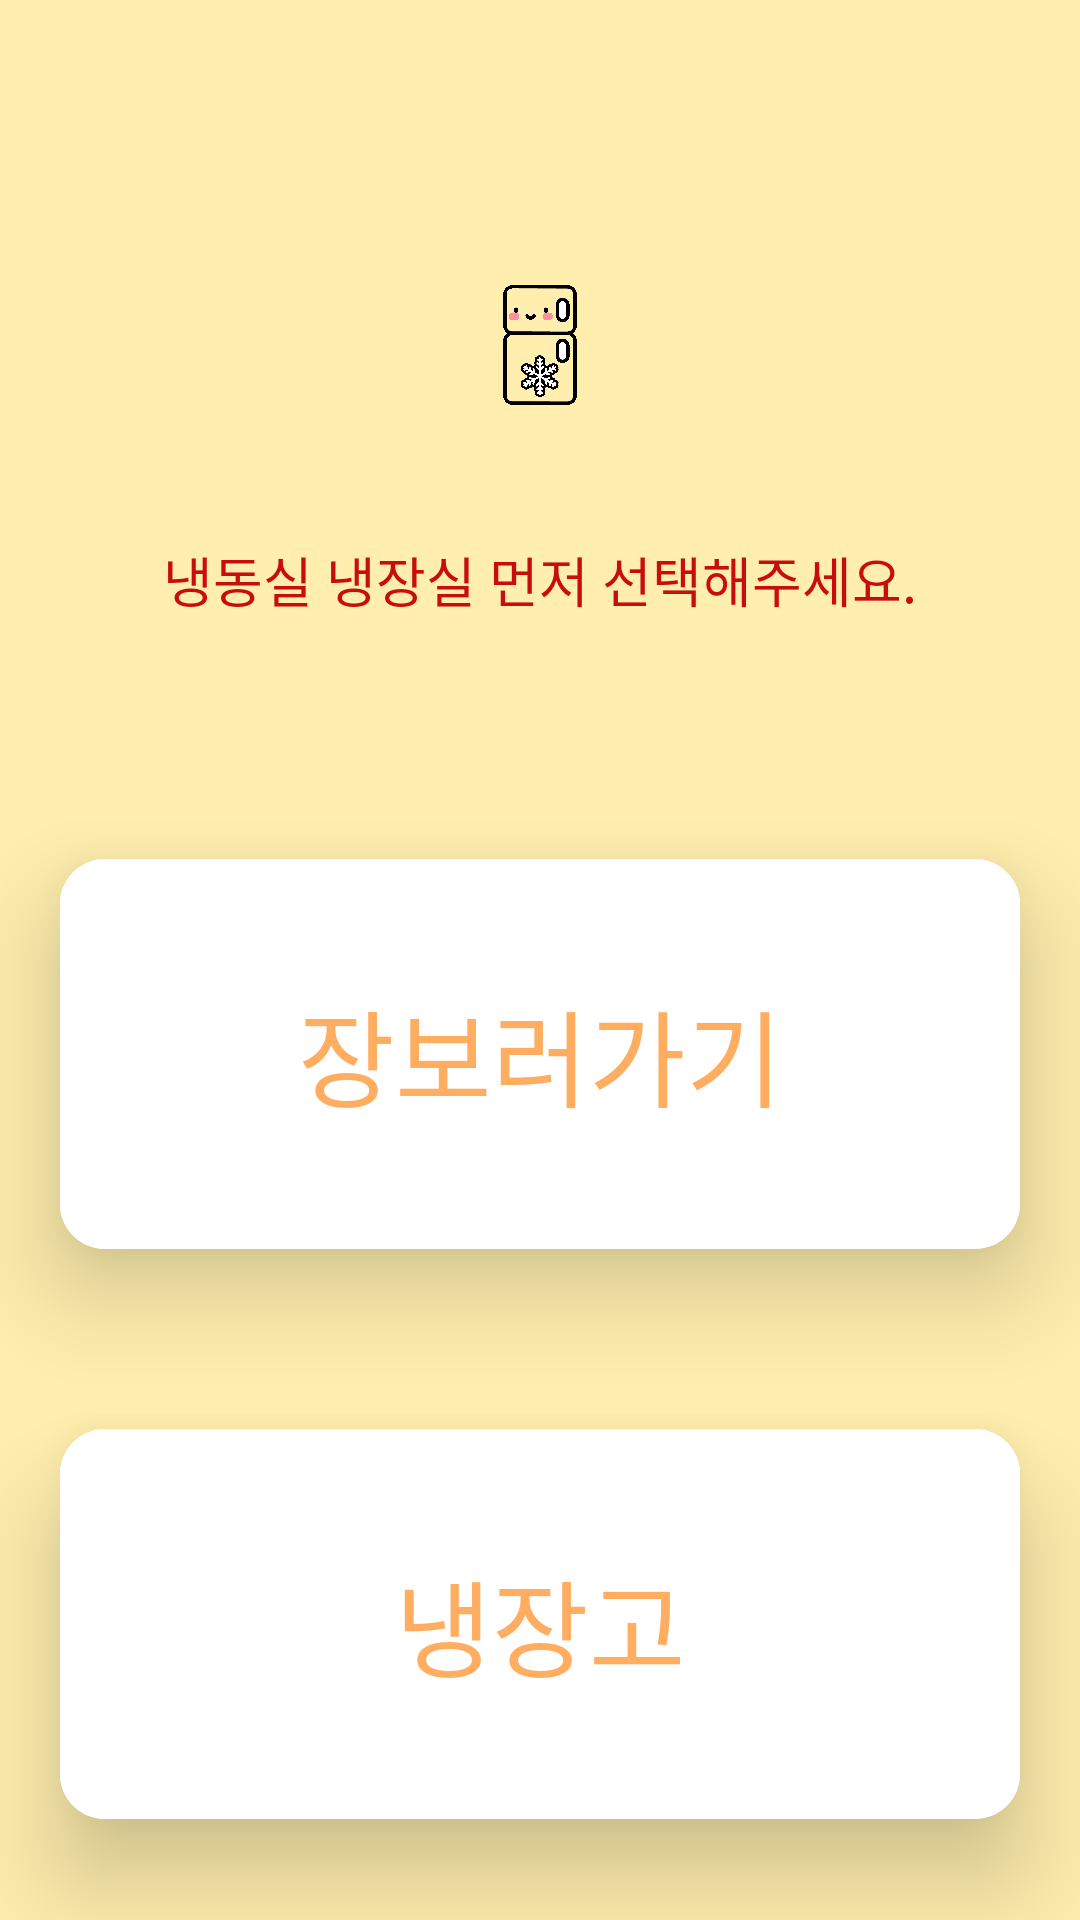

Screen size 1080px x 1920px. Icon name, then its center in pixels as [x,y]:
fridge: [540,345]
